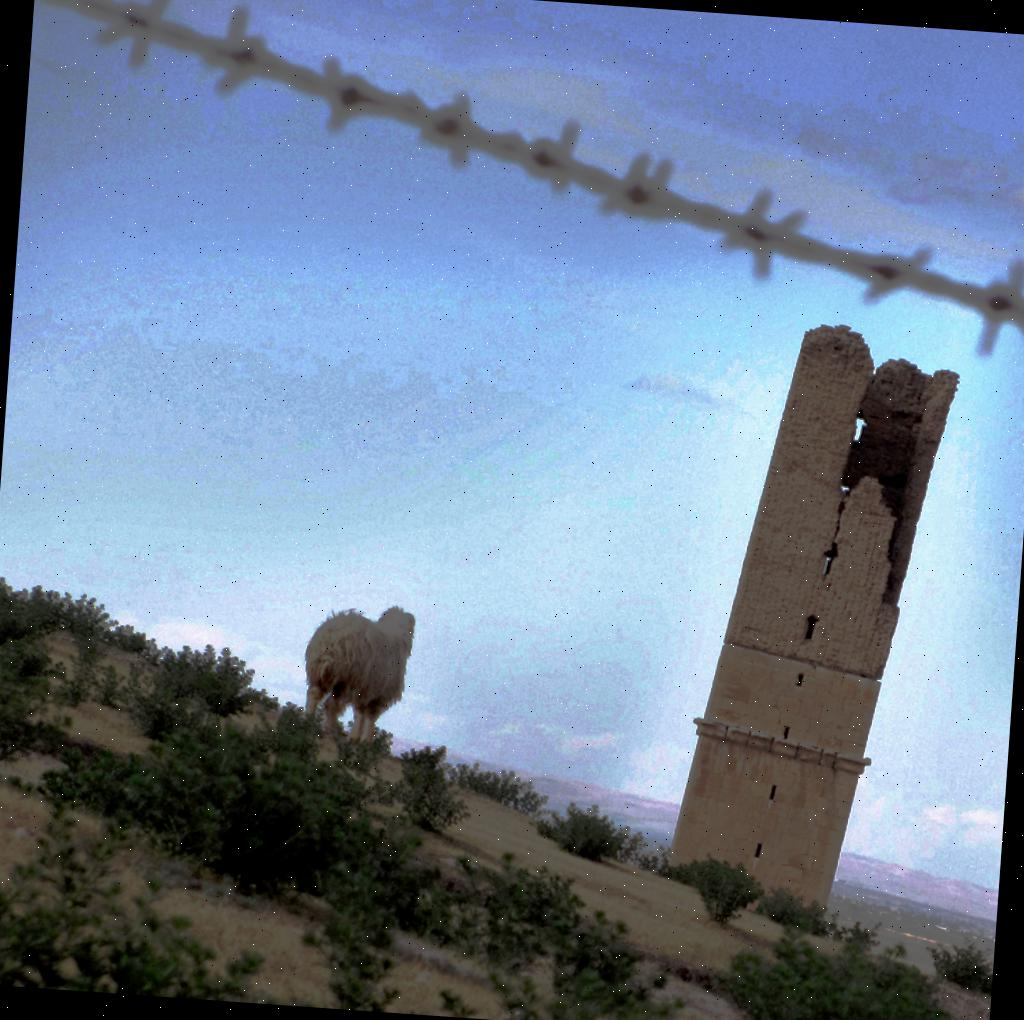Sheep: (293, 593, 418, 750)
